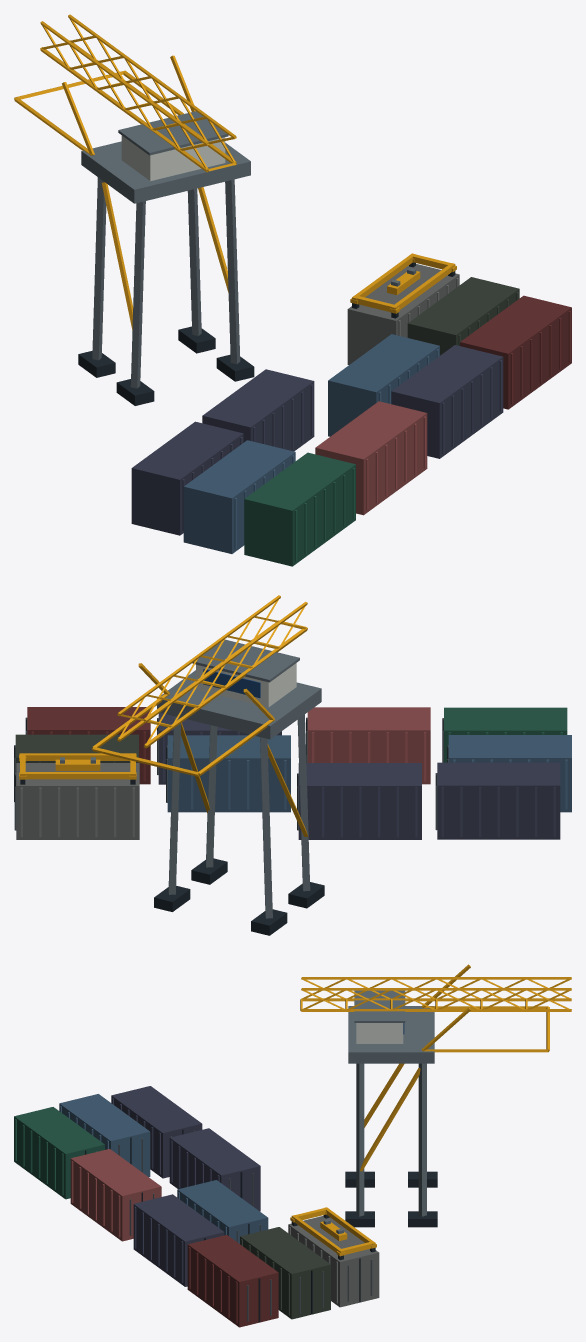
Rendered from SeaportSystem-02-ShipToShoreGantryCrane-01-20Footer-2-12.glb.
3 renders of one model, top to bottom at view 1: azimuth 30°, elevation 25°; view 2: azimuth 150°, elevation 25°; view 3: azimuth 270°, elevation 25°, orthographic. The views are drawn at different scales.
Parts seen in each view (by area): view 1: SeaportSystem-02-ShipToShoreGantryCrane-01-20Footer-2-12; view 2: SeaportSystem-02-ShipToShoreGantryCrane-01-20Footer-2-12; view 3: SeaportSystem-02-ShipToShoreGantryCrane-01-20Footer-2-12.
Part boxes in pixels (x1=…): SeaportSystem-02-ShipToShoreGantryCrane-01-20Footer-2-12: x1=14, y1=14, x2=571, y2=566; SeaportSystem-02-ShipToShoreGantryCrane-01-20Footer-2-12: x1=14, y1=595, x2=571, y2=935; SeaportSystem-02-ShipToShoreGantryCrane-01-20Footer-2-12: x1=14, y1=964, x2=571, y2=1327.
Bounding box in the file's own units: 59.37 × 31.18 × 71.3.
